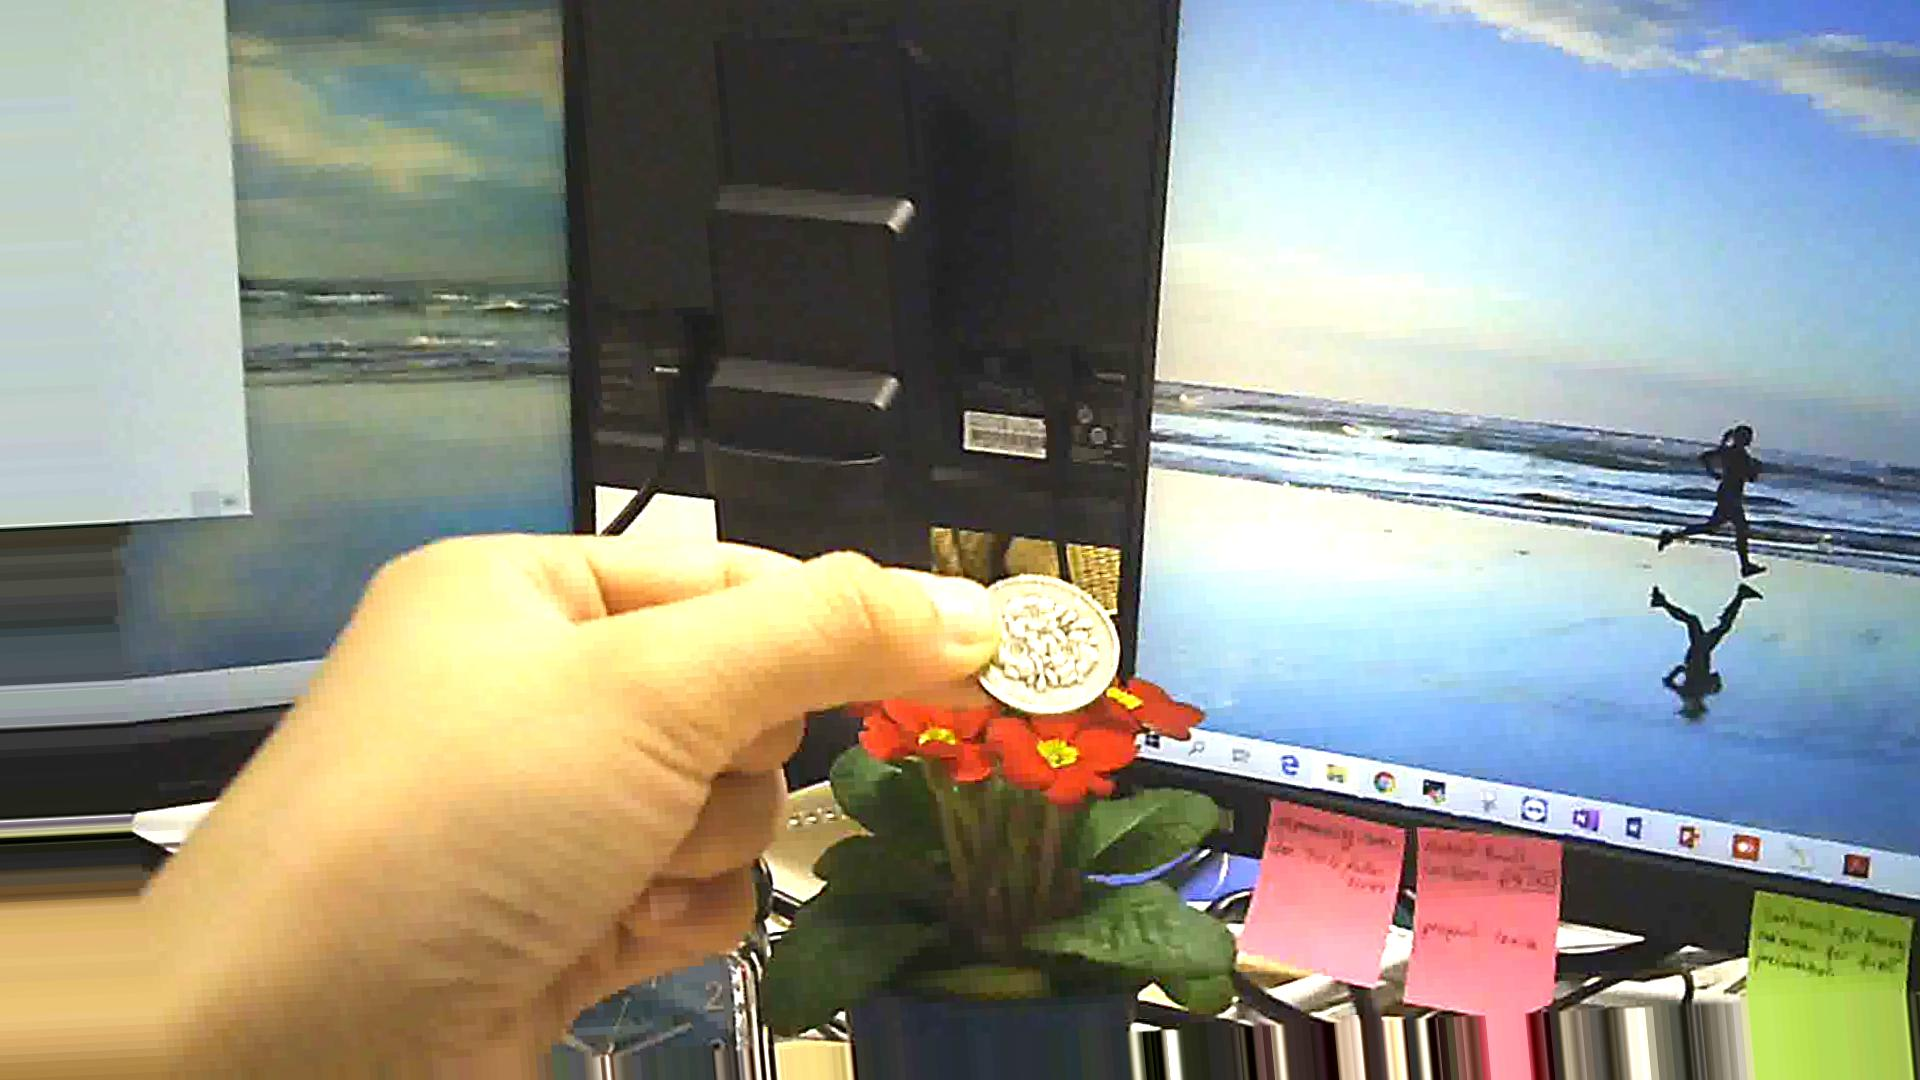100 Yen: (957, 560, 1127, 721)
